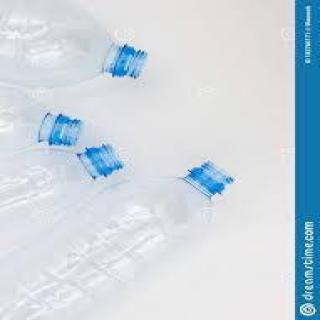Plastic-bottle: (1, 157, 244, 320), (1, 1, 152, 93), (1, 141, 128, 241), (1, 85, 85, 156)
